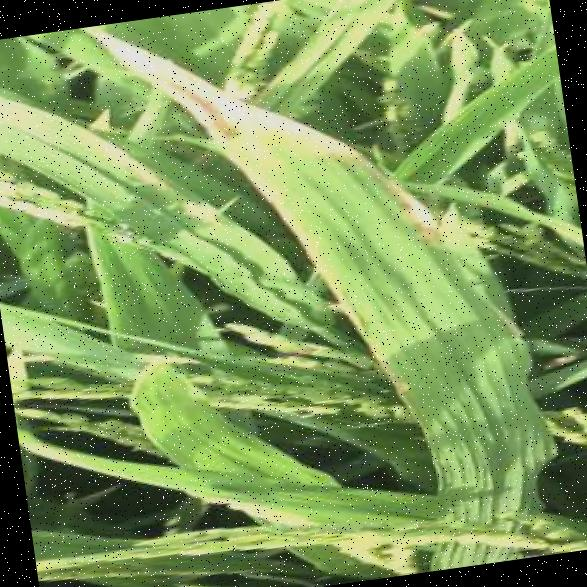Bacteria_Leaf_Blight: (224, 9, 470, 496)
